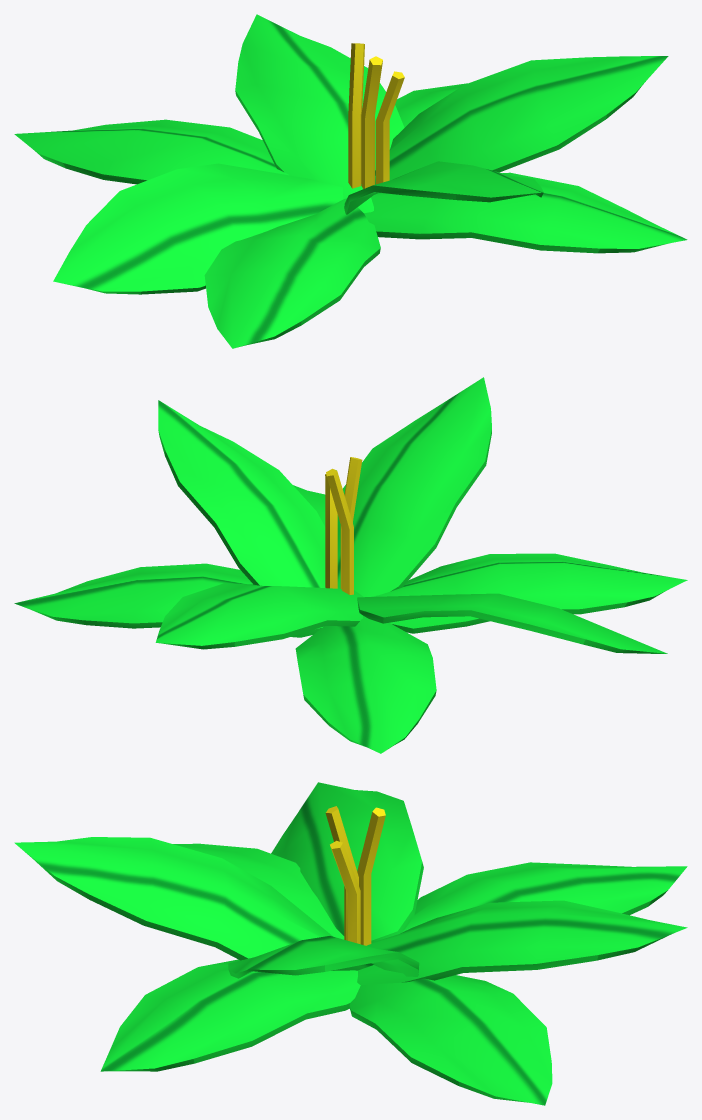
File: Flower2.fbx
3 views of the same model, one above another, from view 1: azimuth 30°, elevation 25°; view 2: azimuth 150°, elevation 25°; view 3: azimuth 270°, elevation 25° (orthographic). The views are drawn at different scales.
Parts seen in each view (by area): view 1: pasted__pasted__pasted__pCube1 (×7), pasted__pasted__pCube1, pasted__pasted__pCylinder1 (×2), pasted__pCylinder1; view 2: pasted__pasted__pasted__pCube1 (×7), pasted__pasted__pCylinder1 (×2), pasted__pCylinder1; view 3: pasted__pasted__pasted__pCube1 (×7), pasted__pasted__pCube1, pasted__pasted__pCylinder1 (×2), pasted__pCylinder1.
Part boxes in pixels (x1=…): pasted__pasted__pasted__pCube1 (×7): x1=14, y1=14, x2=668, y2=348; pasted__pasted__pCube1: x1=364, y1=172, x2=687, y2=253; pasted__pasted__pCylinder1 (×2): x1=348, y1=43, x2=404, y2=188; pasted__pCylinder1: x1=361, y1=56, x2=382, y2=188; pasted__pasted__pasted__pCube1 (×7): x1=14, y1=377, x2=687, y2=753; pasted__pasted__pCylinder1 (×2): x1=325, y1=468, x2=353, y2=594; pasted__pCylinder1: x1=340, y1=457, x2=362, y2=588; pasted__pasted__pasted__pCube1 (×7): x1=14, y1=782, x2=687, y2=1105; pasted__pasted__pCube1: x1=100, y1=959, x2=360, y2=1071; pasted__pasted__pCylinder1 (×2): x1=330, y1=807, x2=385, y2=945; pasted__pCylinder1: x1=325, y1=806, x2=358, y2=939.
Bounding box in the file's own units: 3.2 × 0.8738 × 2.94.
